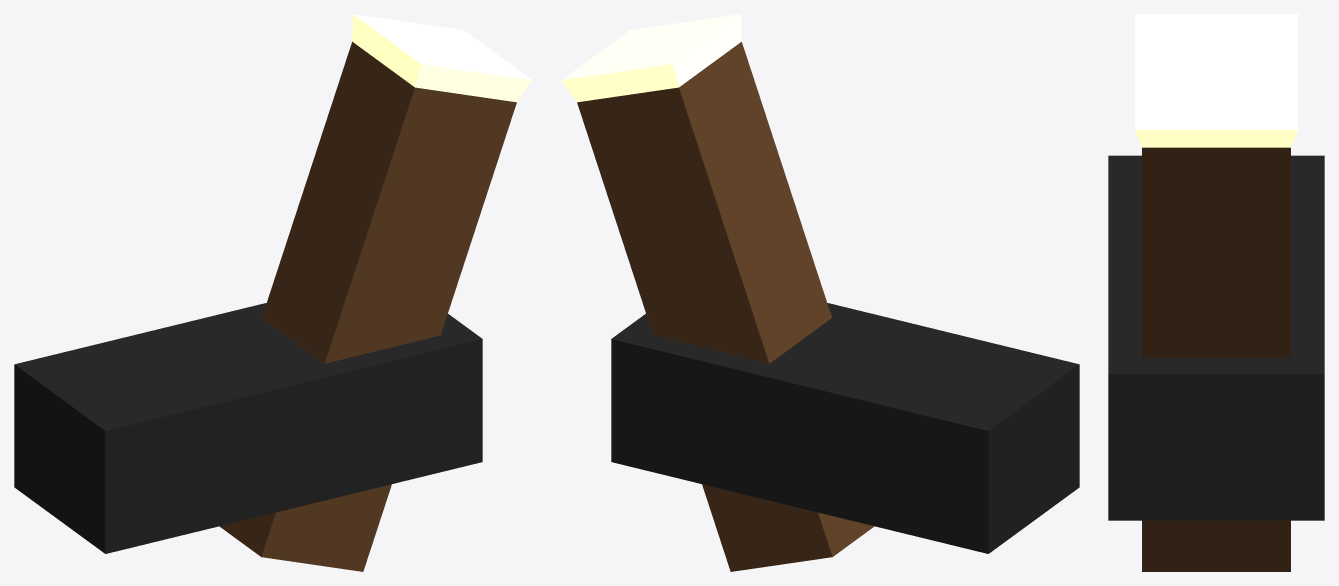
File: lantern.fbx
3 renders of one model, left to right at view 1: azimuth 30°, elevation 25°; view 2: azimuth 150°, elevation 25°; view 3: azimuth 270°, elevation 25°, orthographic. The views are drawn at different scales.
Visible parts, largest first — view 1: Cube.002; view 2: Cube.002; view 3: Cube.002.
Boxes of the visible parts, <box> form: Cube.002: <box>14,14,532,571</box>; Cube.002: <box>561,14,1079,571</box>; Cube.002: <box>1108,14,1324,571</box>.
Size of the model in its own units: 79.82 by 86.37 by 28.74.
